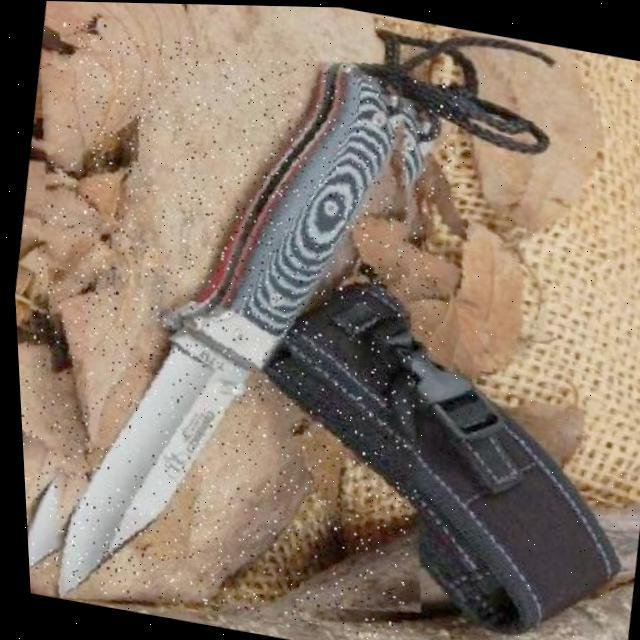knife: (1, 13, 480, 640)
